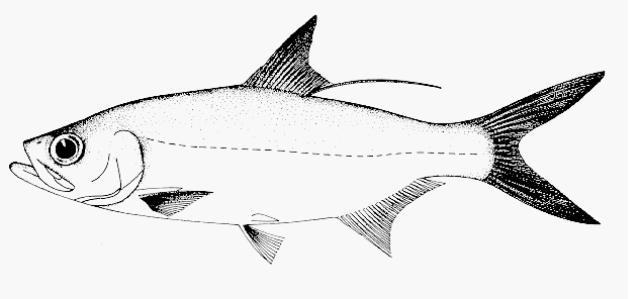Mulut: (4, 120, 58, 200)
Sirip Anal: (332, 173, 448, 263)
Sirip Dada: (137, 184, 216, 224)
Sirip Ekor: (473, 64, 615, 234)
Sirip Perut: (236, 215, 288, 268)
Sirip Punggung: (240, 11, 452, 111)
